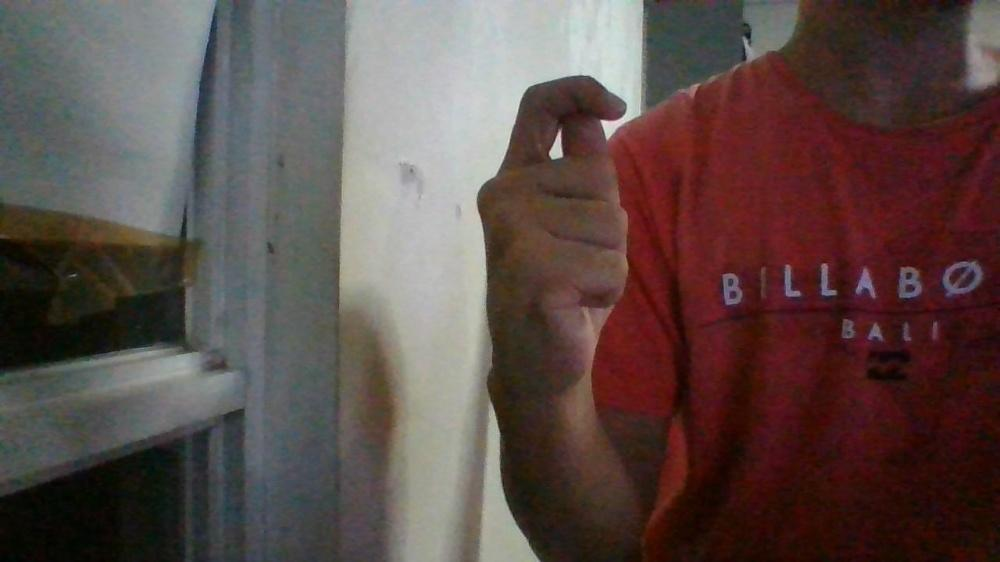t: (476, 74, 631, 391)
